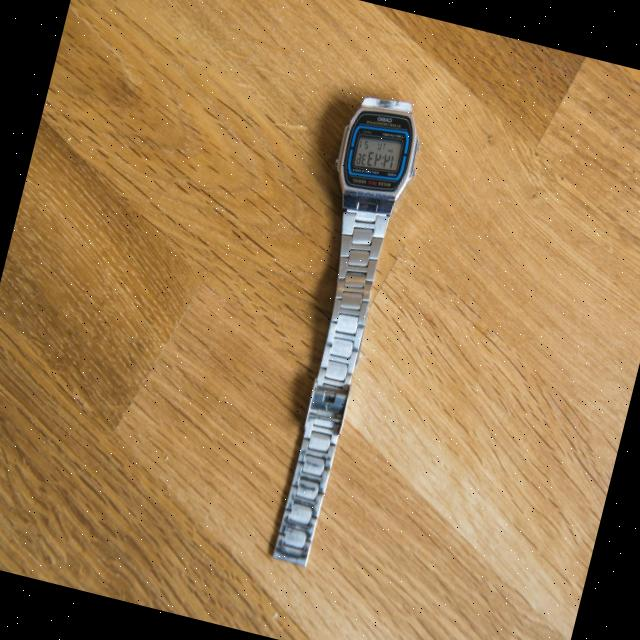Wrist watch: (236, 85, 430, 576)
